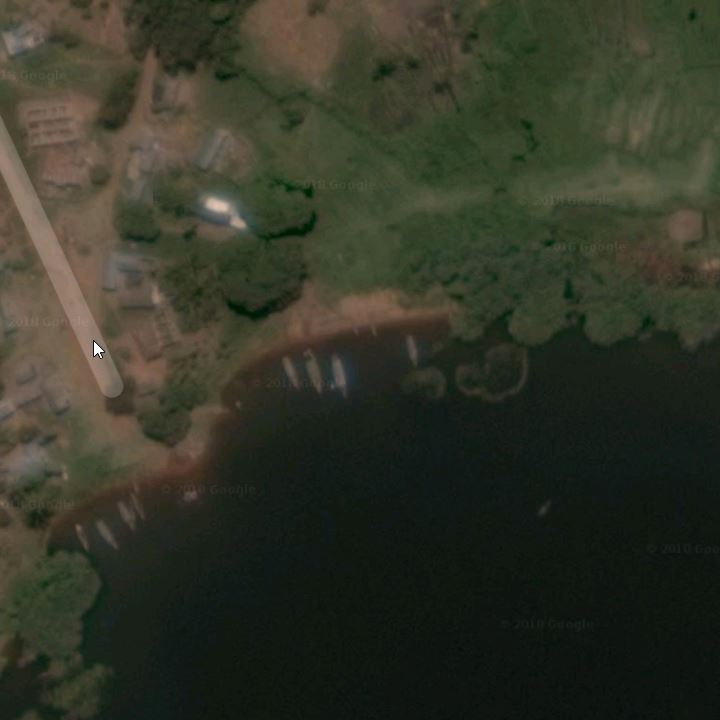boat: (322, 347, 353, 400), (296, 346, 328, 396), (89, 511, 122, 553), (273, 352, 302, 393), (111, 496, 140, 534), (400, 332, 424, 370), (127, 482, 150, 521), (69, 522, 94, 556)
